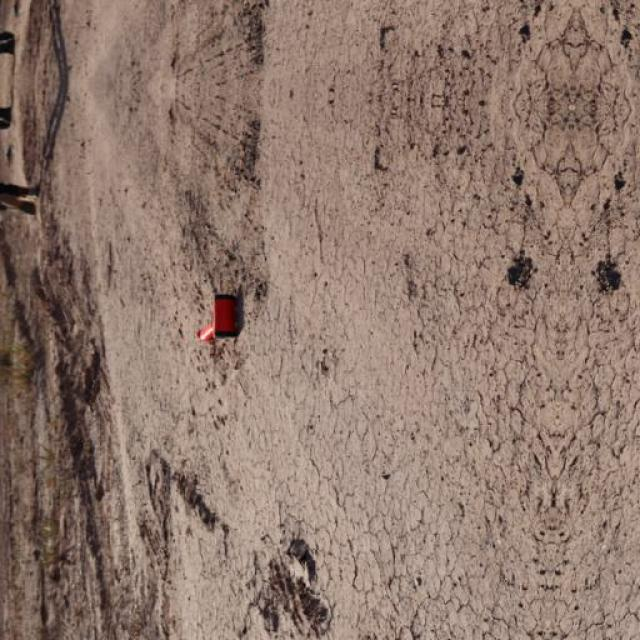mallet: (195, 292, 239, 342)
